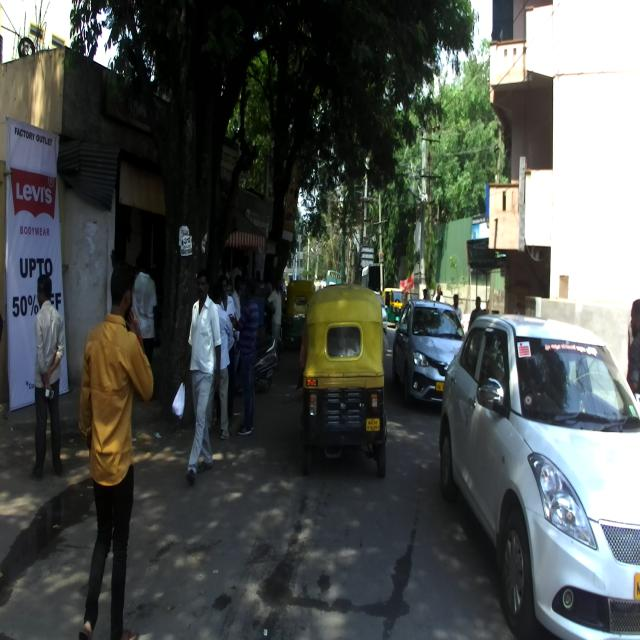auto ahead at: (306, 293, 388, 466)
car ahead at: (443, 309, 640, 640)
person ahead at: (82, 259, 150, 640), (179, 266, 225, 484)
